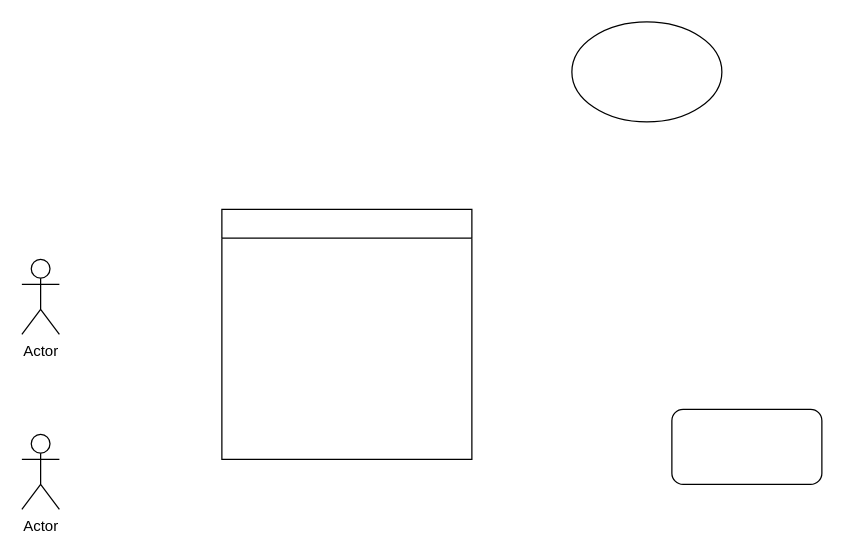
Some shapes in this 844 by 558 pixel diagram are drawn without their labels. The box of each missing label's shape, as (x1, y1, x2, y2) in pixels:
cas d'utilisation: (571, 21, 722, 122)
Conteneur: (221, 208, 472, 459)
